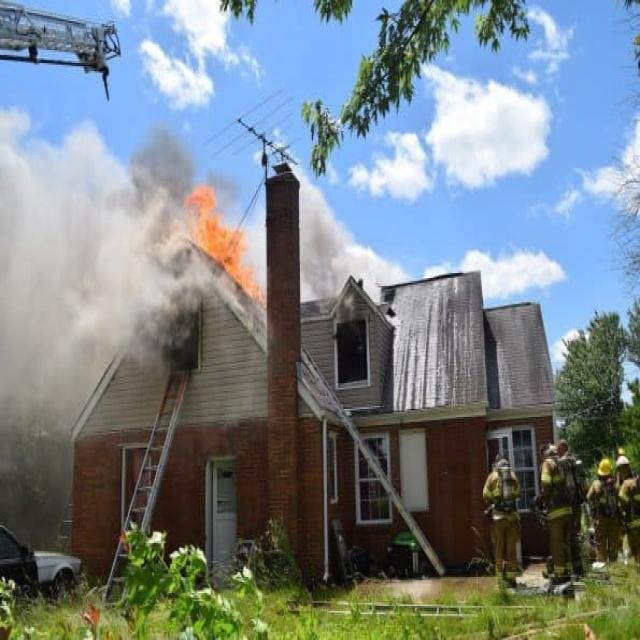Fire: (192, 178, 260, 295)
Smoke: (3, 150, 189, 358), (0, 372, 75, 500)
